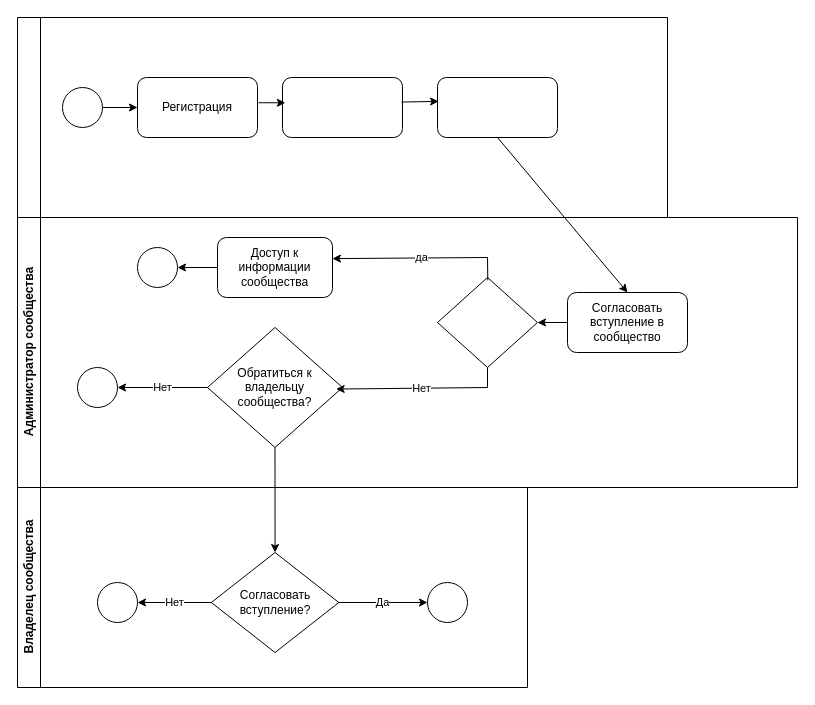
The diagram is 815 pixels wide and 705 high, and some of its shapes have lost their labels. The box of each missing label's shape, as (x1, y1, x2, y2) in pixels:
Вход в систему: (282, 76, 402, 138)
Гость: (16, 16, 668, 218)
Подача заявления на вступление в сообщество: (436, 76, 558, 138)
согласовано?: (436, 276, 538, 368)
